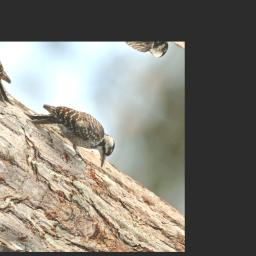Woodpecker: (19, 79, 123, 179)
